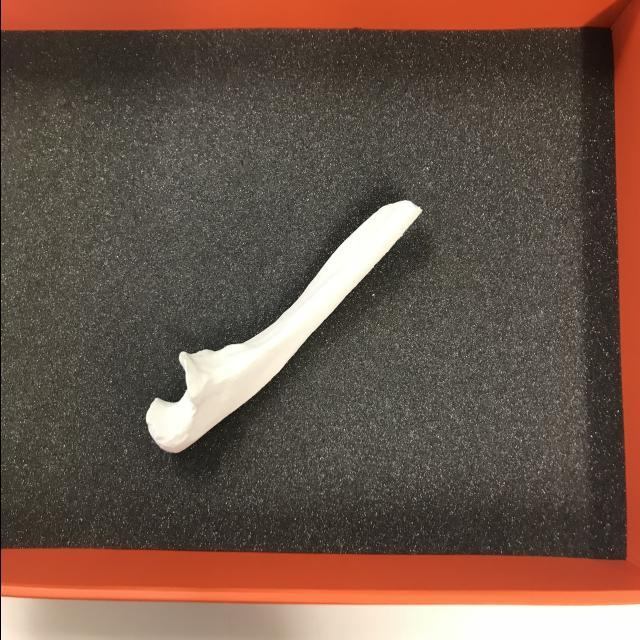bone: (140, 185, 424, 469)
